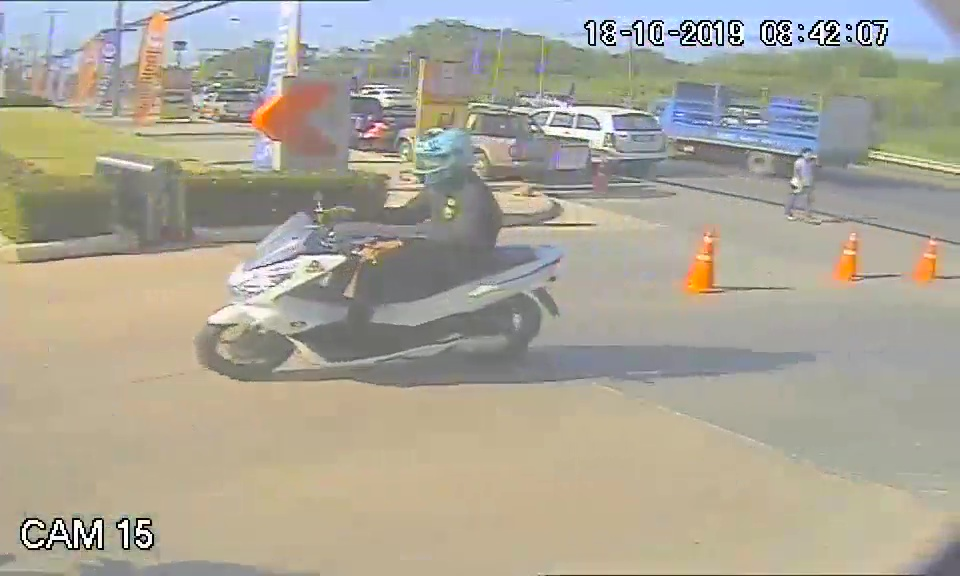motorcycle: (188, 215, 564, 385)
